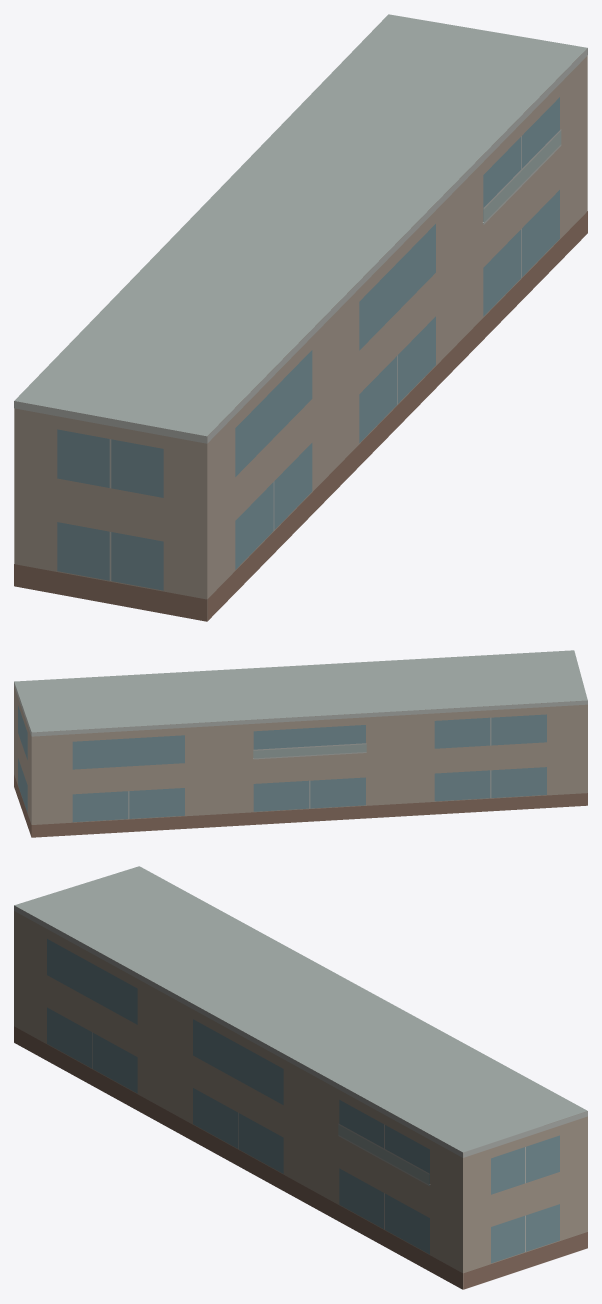
Rendered from survey-upis-32582546.glb.
3 renders of one model, top to bottom at view 1: azimuth 30°, elevation 25°; view 2: azimuth 150°, elevation 25°; view 3: azimuth 270°, elevation 25°, orthographic. The views are drawn at different scales.
Parts seen in each view (by area): view 1: survey-upis-32582546.tmp; view 2: survey-upis-32582546.tmp; view 3: survey-upis-32582546.tmp.
Part boxes in pixels (box(x1,y1,x2,y2)): survey-upis-32582546.tmp: box(14, 14, 587, 621); survey-upis-32582546.tmp: box(14, 650, 587, 837); survey-upis-32582546.tmp: box(14, 866, 587, 1289).
Bounding box in the file's own units: 27.29 × 6.1 × 23.11.
